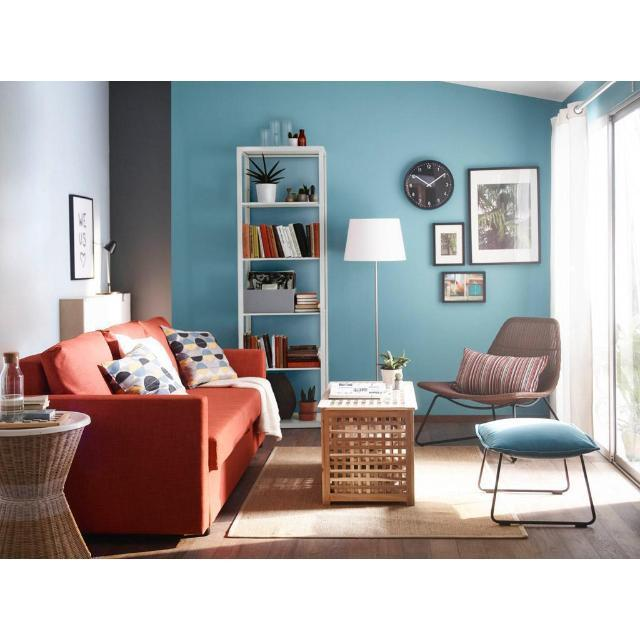chair: (416, 317, 561, 445)
clock: (404, 160, 454, 210)
couch: (20, 317, 280, 534)
curtain: (551, 102, 592, 434)
lamp: (344, 218, 406, 379), (98, 241, 116, 294)
pillow: (161, 326, 238, 388), (102, 344, 186, 395)
plant: (246, 154, 285, 202), (246, 154, 285, 202), (380, 351, 410, 386), (380, 351, 410, 370)
rug: (228, 446, 526, 538)
shelf: (236, 146, 329, 428)
stool: (475, 418, 599, 525)
table: (319, 381, 418, 506)
wall-art: (468, 167, 540, 265), (69, 195, 94, 279), (432, 222, 465, 266), (441, 271, 485, 302)
